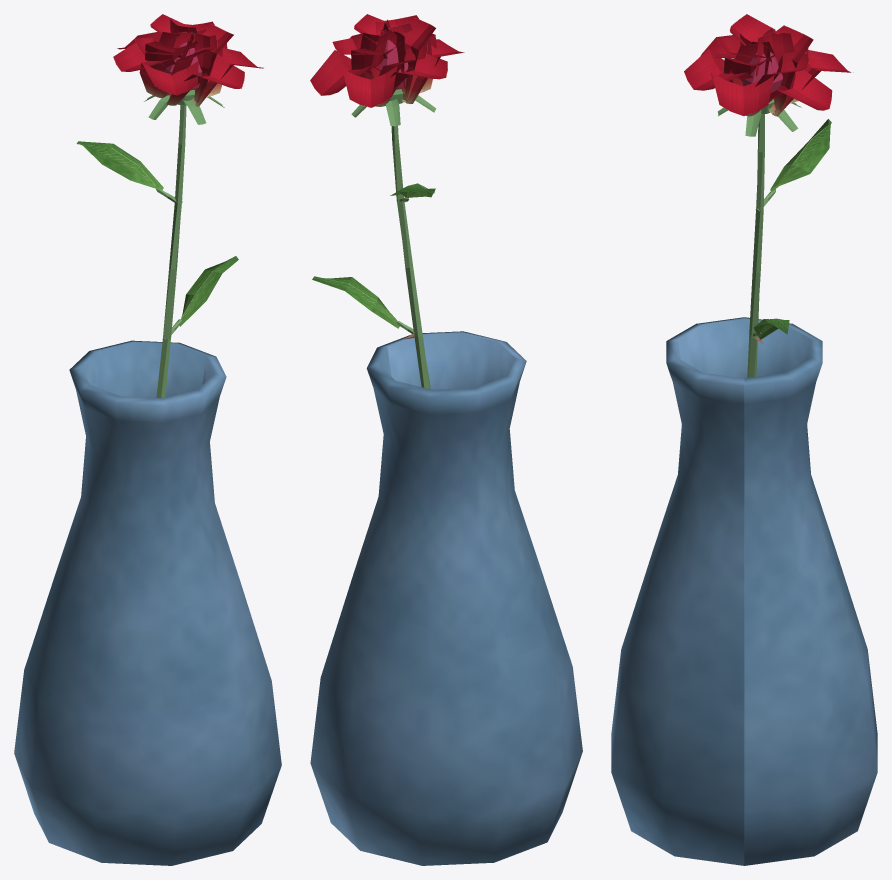
File: rose4.glb
3 views of the same model, side by side, from view 1: azimuth 30°, elevation 25°; view 2: azimuth 150°, elevation 25°; view 3: azimuth 270°, elevation 25° (orthographic). The views are drawn at different scales.
Visible parts, largest first — view 1: Vase, Stem1, Leaf2, Rose1Out1, Leaf1, Rose1Out2, Rose1Out0, Rose1Mid3, Rose1Mid5, Rose1Out3, Rose1In0; view 2: Vase, Stem1, Rose1Out5, Rose1Out4, Leaf1, Rose1Mid3, Rose1Out0, Rose1Out1, Rose1Mid1; view 3: Vase, Stem1, Rose1Out3, Leaf2, Rose1Out4, Rose1Out2, Rose1Out5, Rose1Mid1, Rose1Mid3, Rose1In2, Rose1Core, Rose1Mid0.
Part boxes in pixels (<box>): Vase: <box>14,340,281,865</box>; Stem1: <box>156,105,186,397</box>; Leaf2: <box>76,141,163,190</box>; Rose1Out1: <box>139,61,198,98</box>; Leaf1: <box>179,256,238,326</box>; Rose1Out2: <box>166,55,244,105</box>; Rose1Out0: <box>113,42,175,71</box>; Rose1Mid3: <box>145,41,198,72</box>; Rose1Mid5: <box>194,23,233,102</box>; Rose1Out3: <box>192,48,263,106</box>; Rose1In0: <box>173,32,210,89</box>; Vase: <box>310,331,582,865</box>; Stem1: <box>391,125,430,389</box>; Rose1Out5: <box>342,65,397,107</box>; Rose1Out4: <box>310,50,380,95</box>; Leaf1: <box>312,276,399,328</box>; Rose1Mid3: <box>399,16,435,101</box>; Rose1Out0: <box>375,54,447,106</box>; Rose1Out1: <box>402,39,464,103</box>; Rose1Mid1: <box>351,42,402,79</box>; Vase: <box>611,317,877,865</box>; Stem1: <box>747,113,764,377</box>; Rose1Out3: <box>711,72,775,116</box>; Leaf2: <box>770,119,831,191</box>; Rose1Out4: <box>746,70,832,116</box>; Rose1Out2: <box>684,49,753,90</box>; Rose1Out5: <box>769,50,853,116</box>; Rose1Mid1: <box>773,25,813,110</box>; Rose1Mid3: <box>730,14,775,53</box>; Rose1In2: <box>756,33,794,76</box>; Rose1Core: <box>742,52,782,92</box>; Rose1Mid0: <box>755,52,808,86</box>.
Size of the model in its own units: 0.16 by 0.5138 by 0.1522.
Materials: 8 (3 with a texture image).
